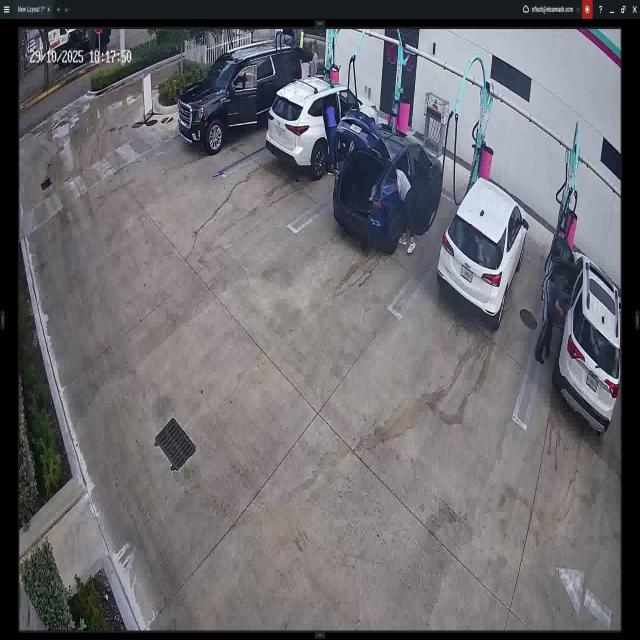Car: (334, 114, 444, 251), (178, 38, 303, 155), (553, 235, 620, 437), (438, 179, 528, 326), (267, 73, 378, 176)
